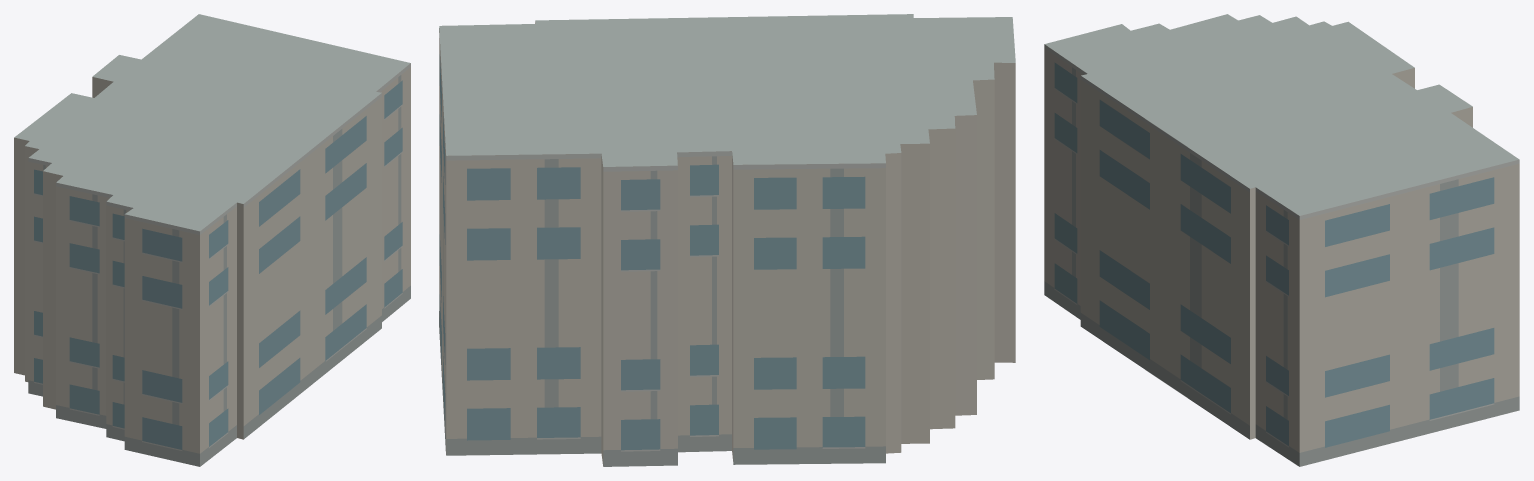
Rendered from survey-upis-32835428.glb.
The picture shows the model from 3 angles, left to right: view 1: azimuth 30°, elevation 25°; view 2: azimuth 150°, elevation 25°; view 3: azimuth 270°, elevation 25°; orthographic projection. The views are drawn at different scales.
Visible parts, largest first — view 1: survey-upis-32835428.tmp; view 2: survey-upis-32835428.tmp; view 3: survey-upis-32835428.tmp.
Part boxes in pixels (box(x1,y1,x2,y2)): survey-upis-32835428.tmp: box(14, 14, 410, 466); survey-upis-32835428.tmp: box(439, 14, 1015, 466); survey-upis-32835428.tmp: box(1044, 14, 1519, 466).
Bounding box in the file's own units: 26.34 × 15.25 × 26.18.
